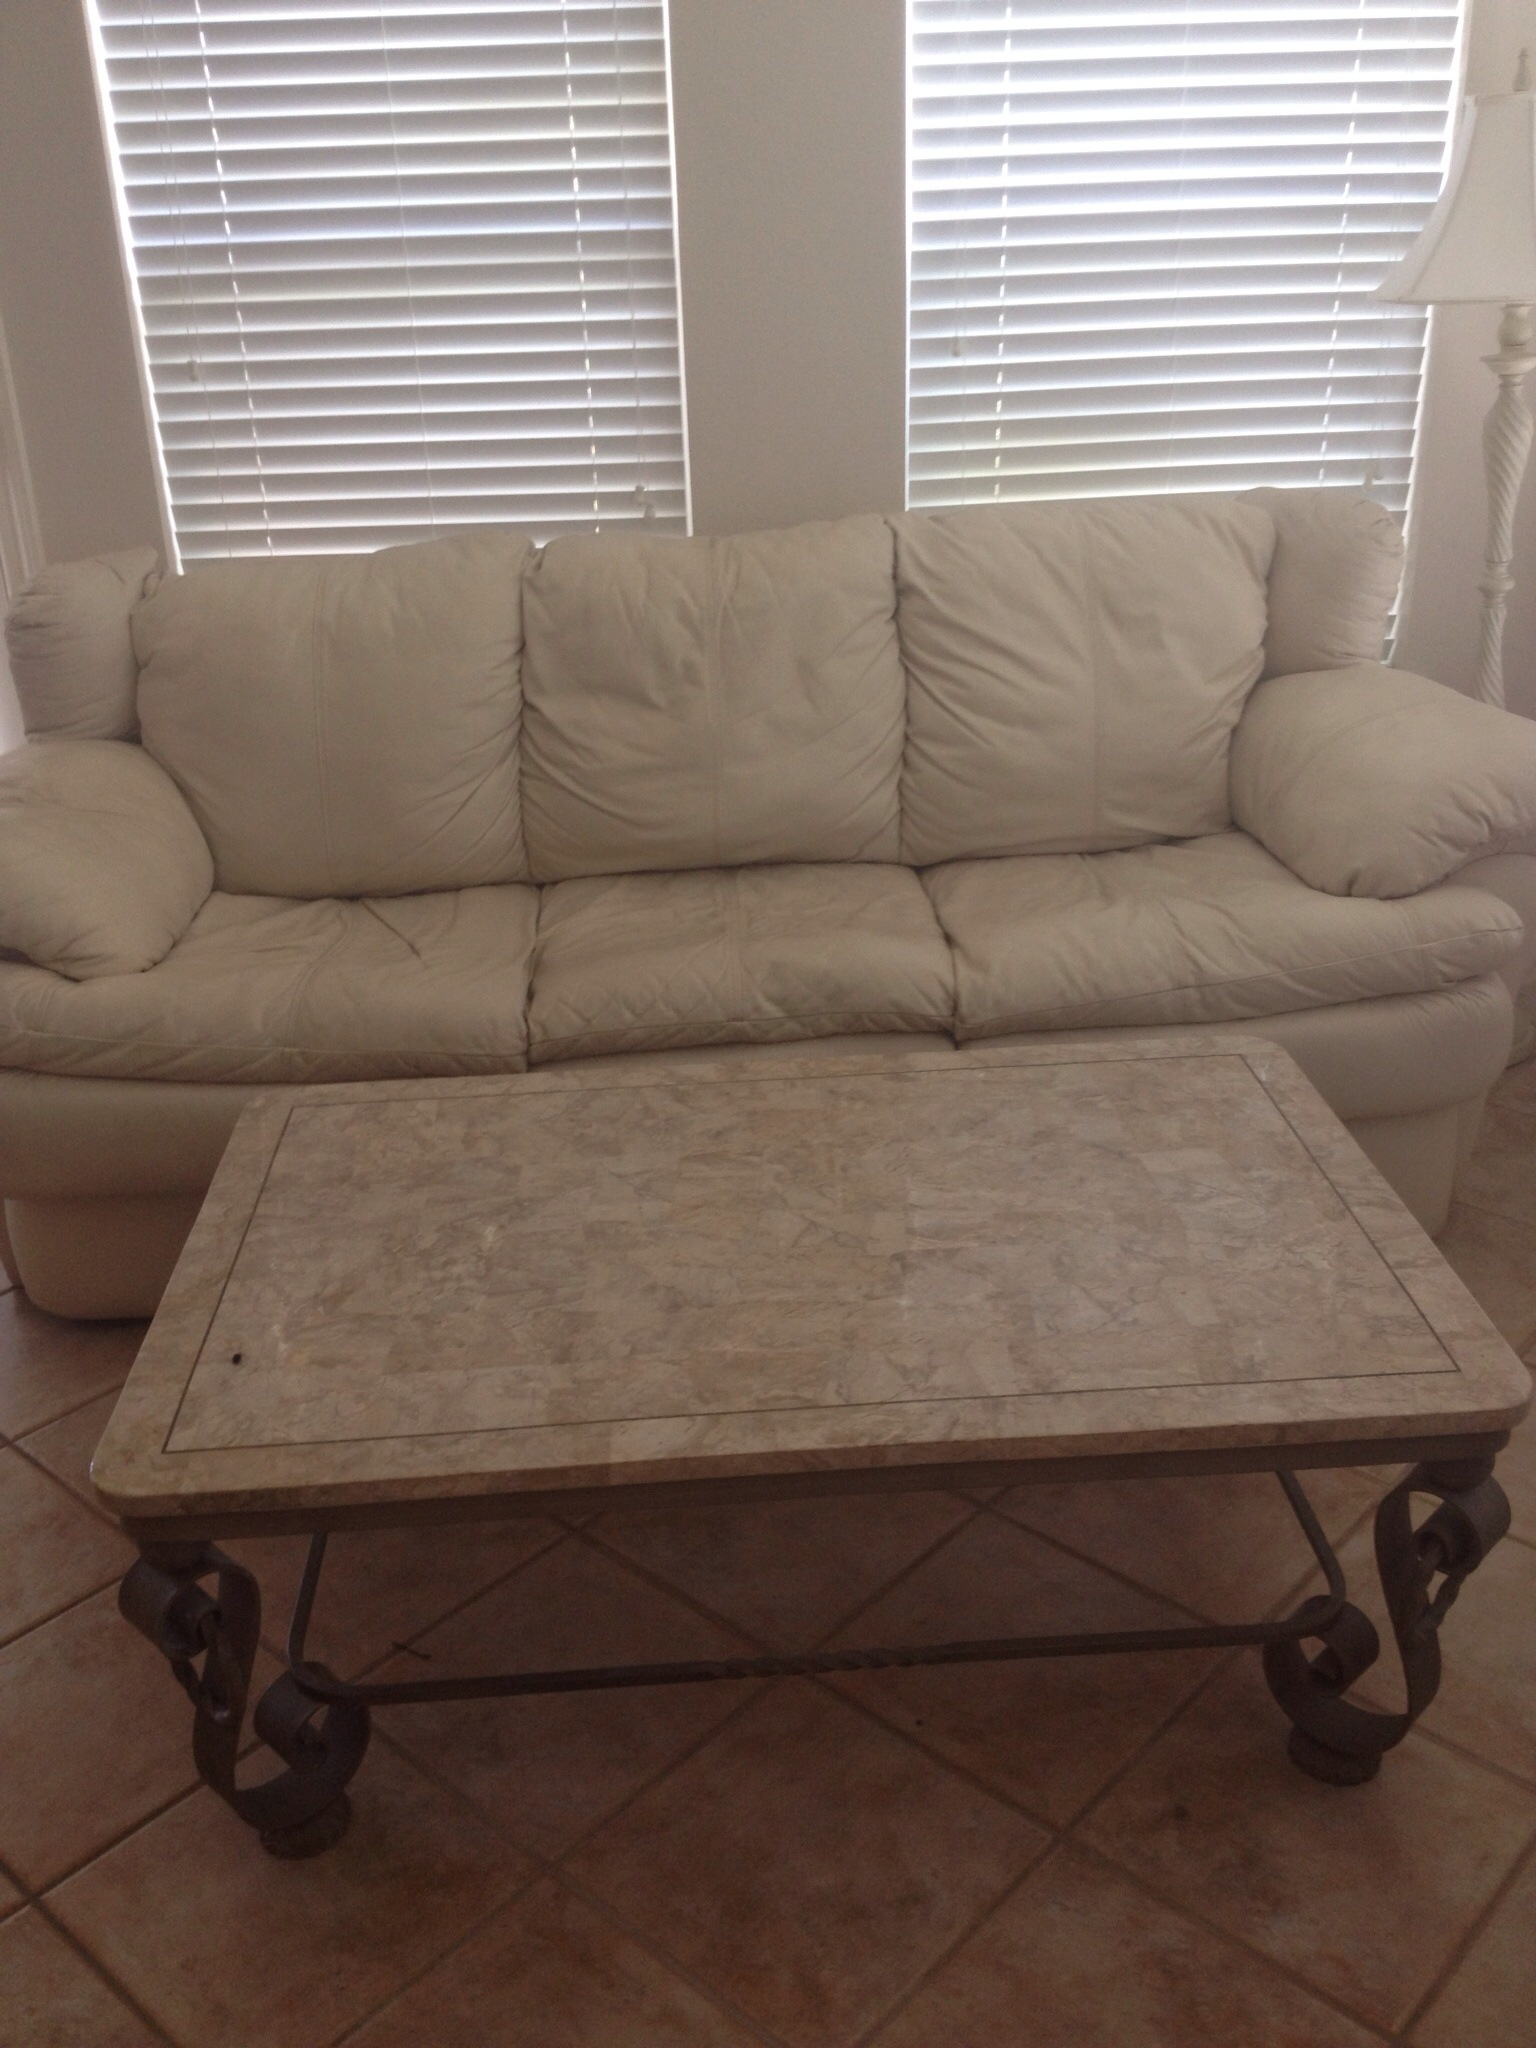sofa: (8, 532, 1513, 1311)
